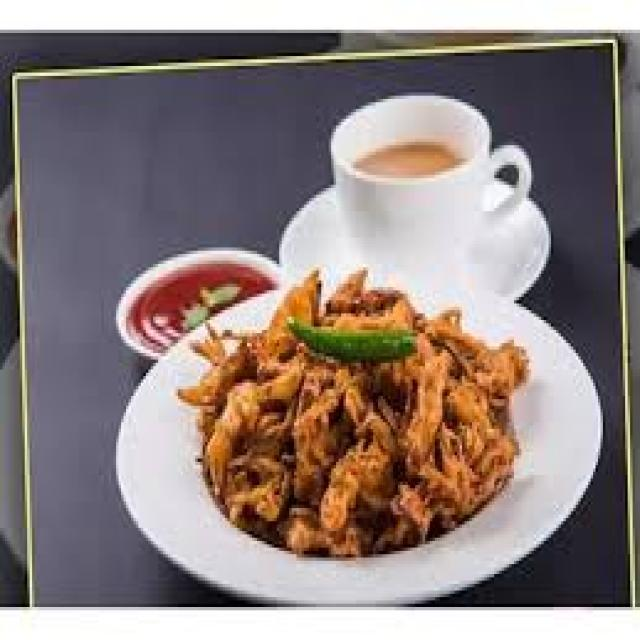BAJI: (192, 276, 529, 556)
